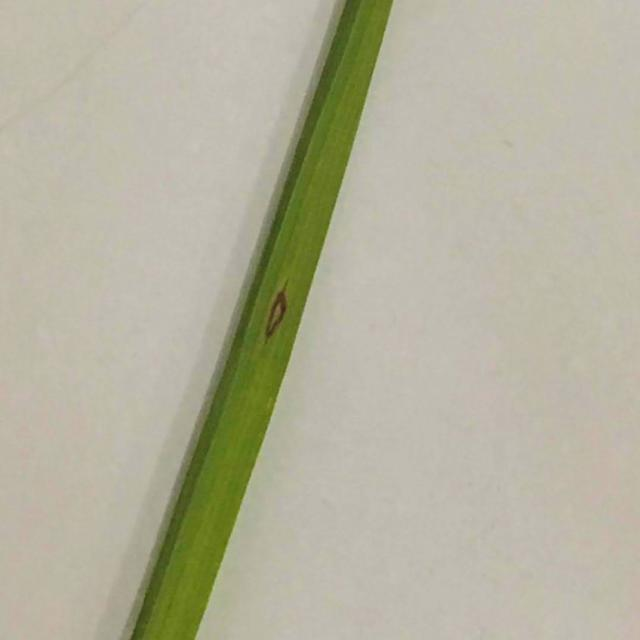Blast: (266, 286, 286, 336)
